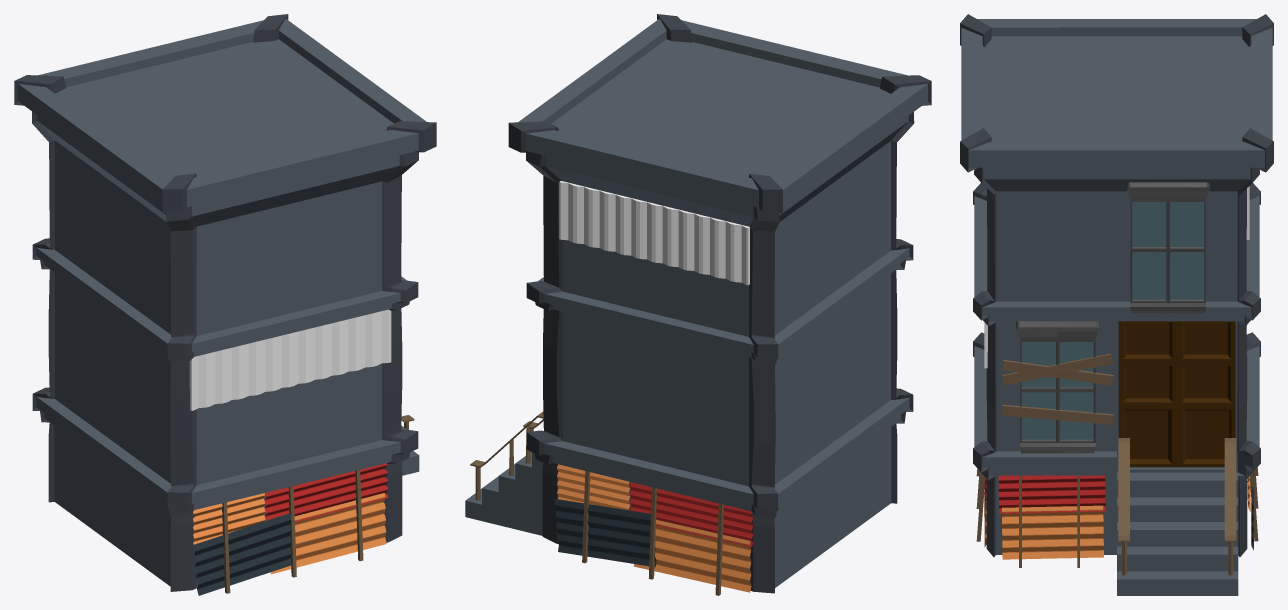
The model's file is SlumBuildings.fbx_AltColor2StorySlum.fbx.
The picture shows the model from 3 angles, left to right: view 1: azimuth 30°, elevation 25°; view 2: azimuth 150°, elevation 25°; view 3: azimuth 270°, elevation 25°; orthographic projection.
Visible parts, largest first — view 1: Cube.003; view 2: Cube.003; view 3: Cube.003.
Boxes of the visible parts, x1,y1,x2,y2 form: Cube.003: [14, 14, 436, 595]; Cube.003: [465, 14, 931, 595]; Cube.003: [960, 14, 1273, 595].
Size of the model in its own units: 1624 by 1987 by 2438.
